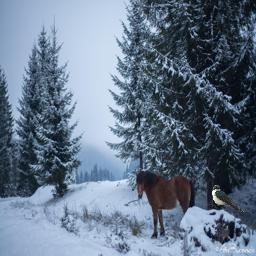Swallow: (212, 185, 244, 212)
